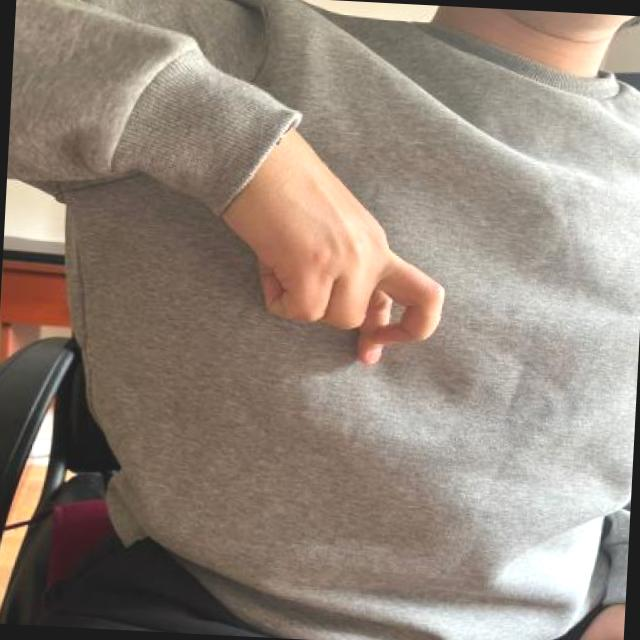P: (199, 106, 456, 379)
